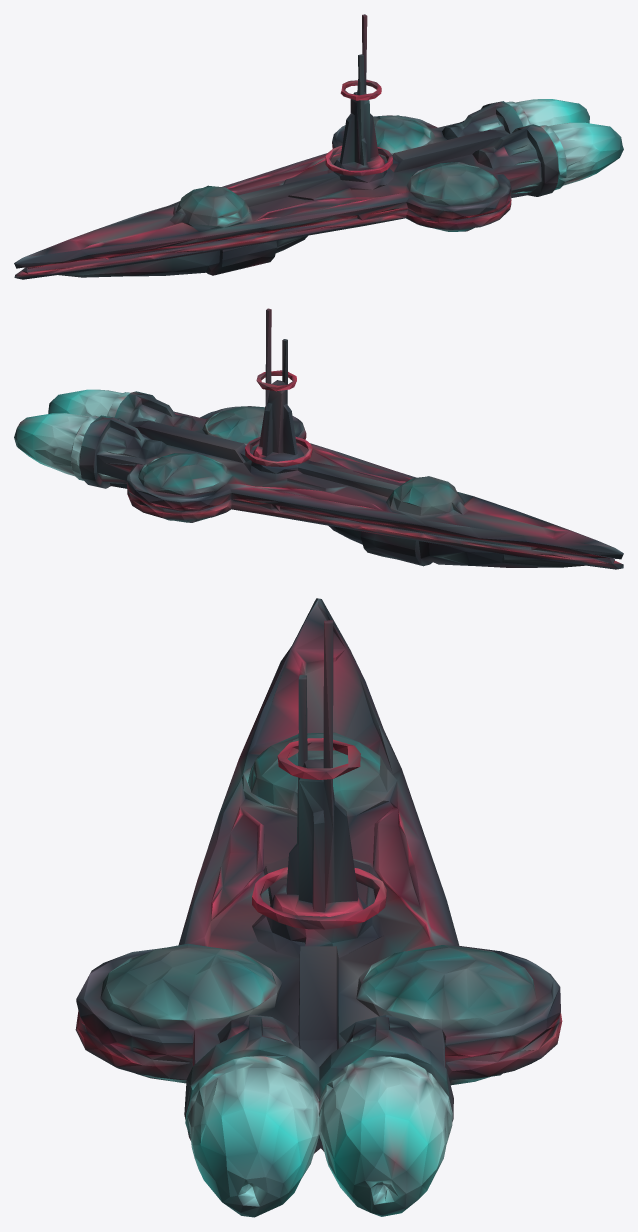
Rendered from councildread.glb.
3 views of the same model, one above another, from view 1: azimuth 30°, elevation 25°; view 2: azimuth 150°, elevation 25°; view 3: azimuth 270°, elevation 25° (orthographic). The views are drawn at different scales.
Visible parts, largest first — view 1: councildread; view 2: councildread; view 3: councildread.
Part boxes in pixels (left/top/right/bottom): councildread: left=14, top=14, right=623, bottom=279; councildread: left=14, top=308, right=623, bottom=569; councildread: left=75, top=598, right=562, bottom=1217.
Size of the model in its own units: 1.9 by 0.6712 by 0.6816.
